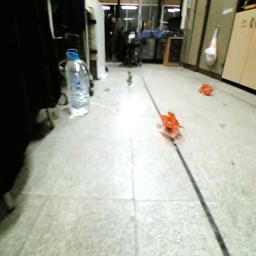herb: (127, 71, 134, 87)
wild: (162, 111, 187, 132), (200, 84, 216, 96)
